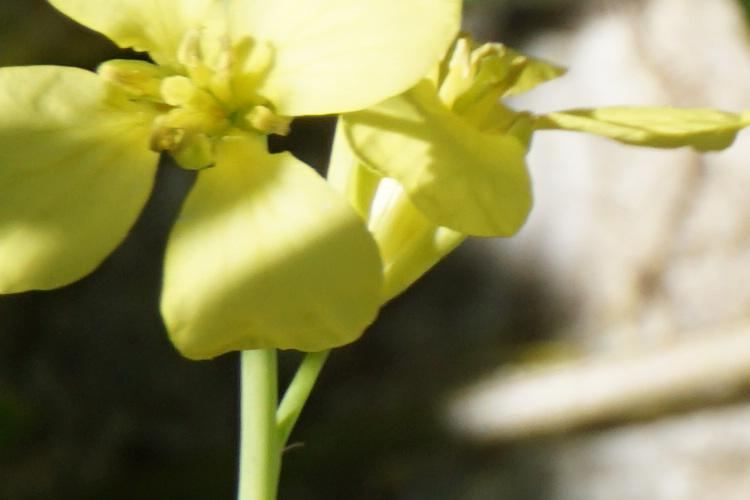yellow: (18, 18, 421, 332), (337, 66, 724, 259)
